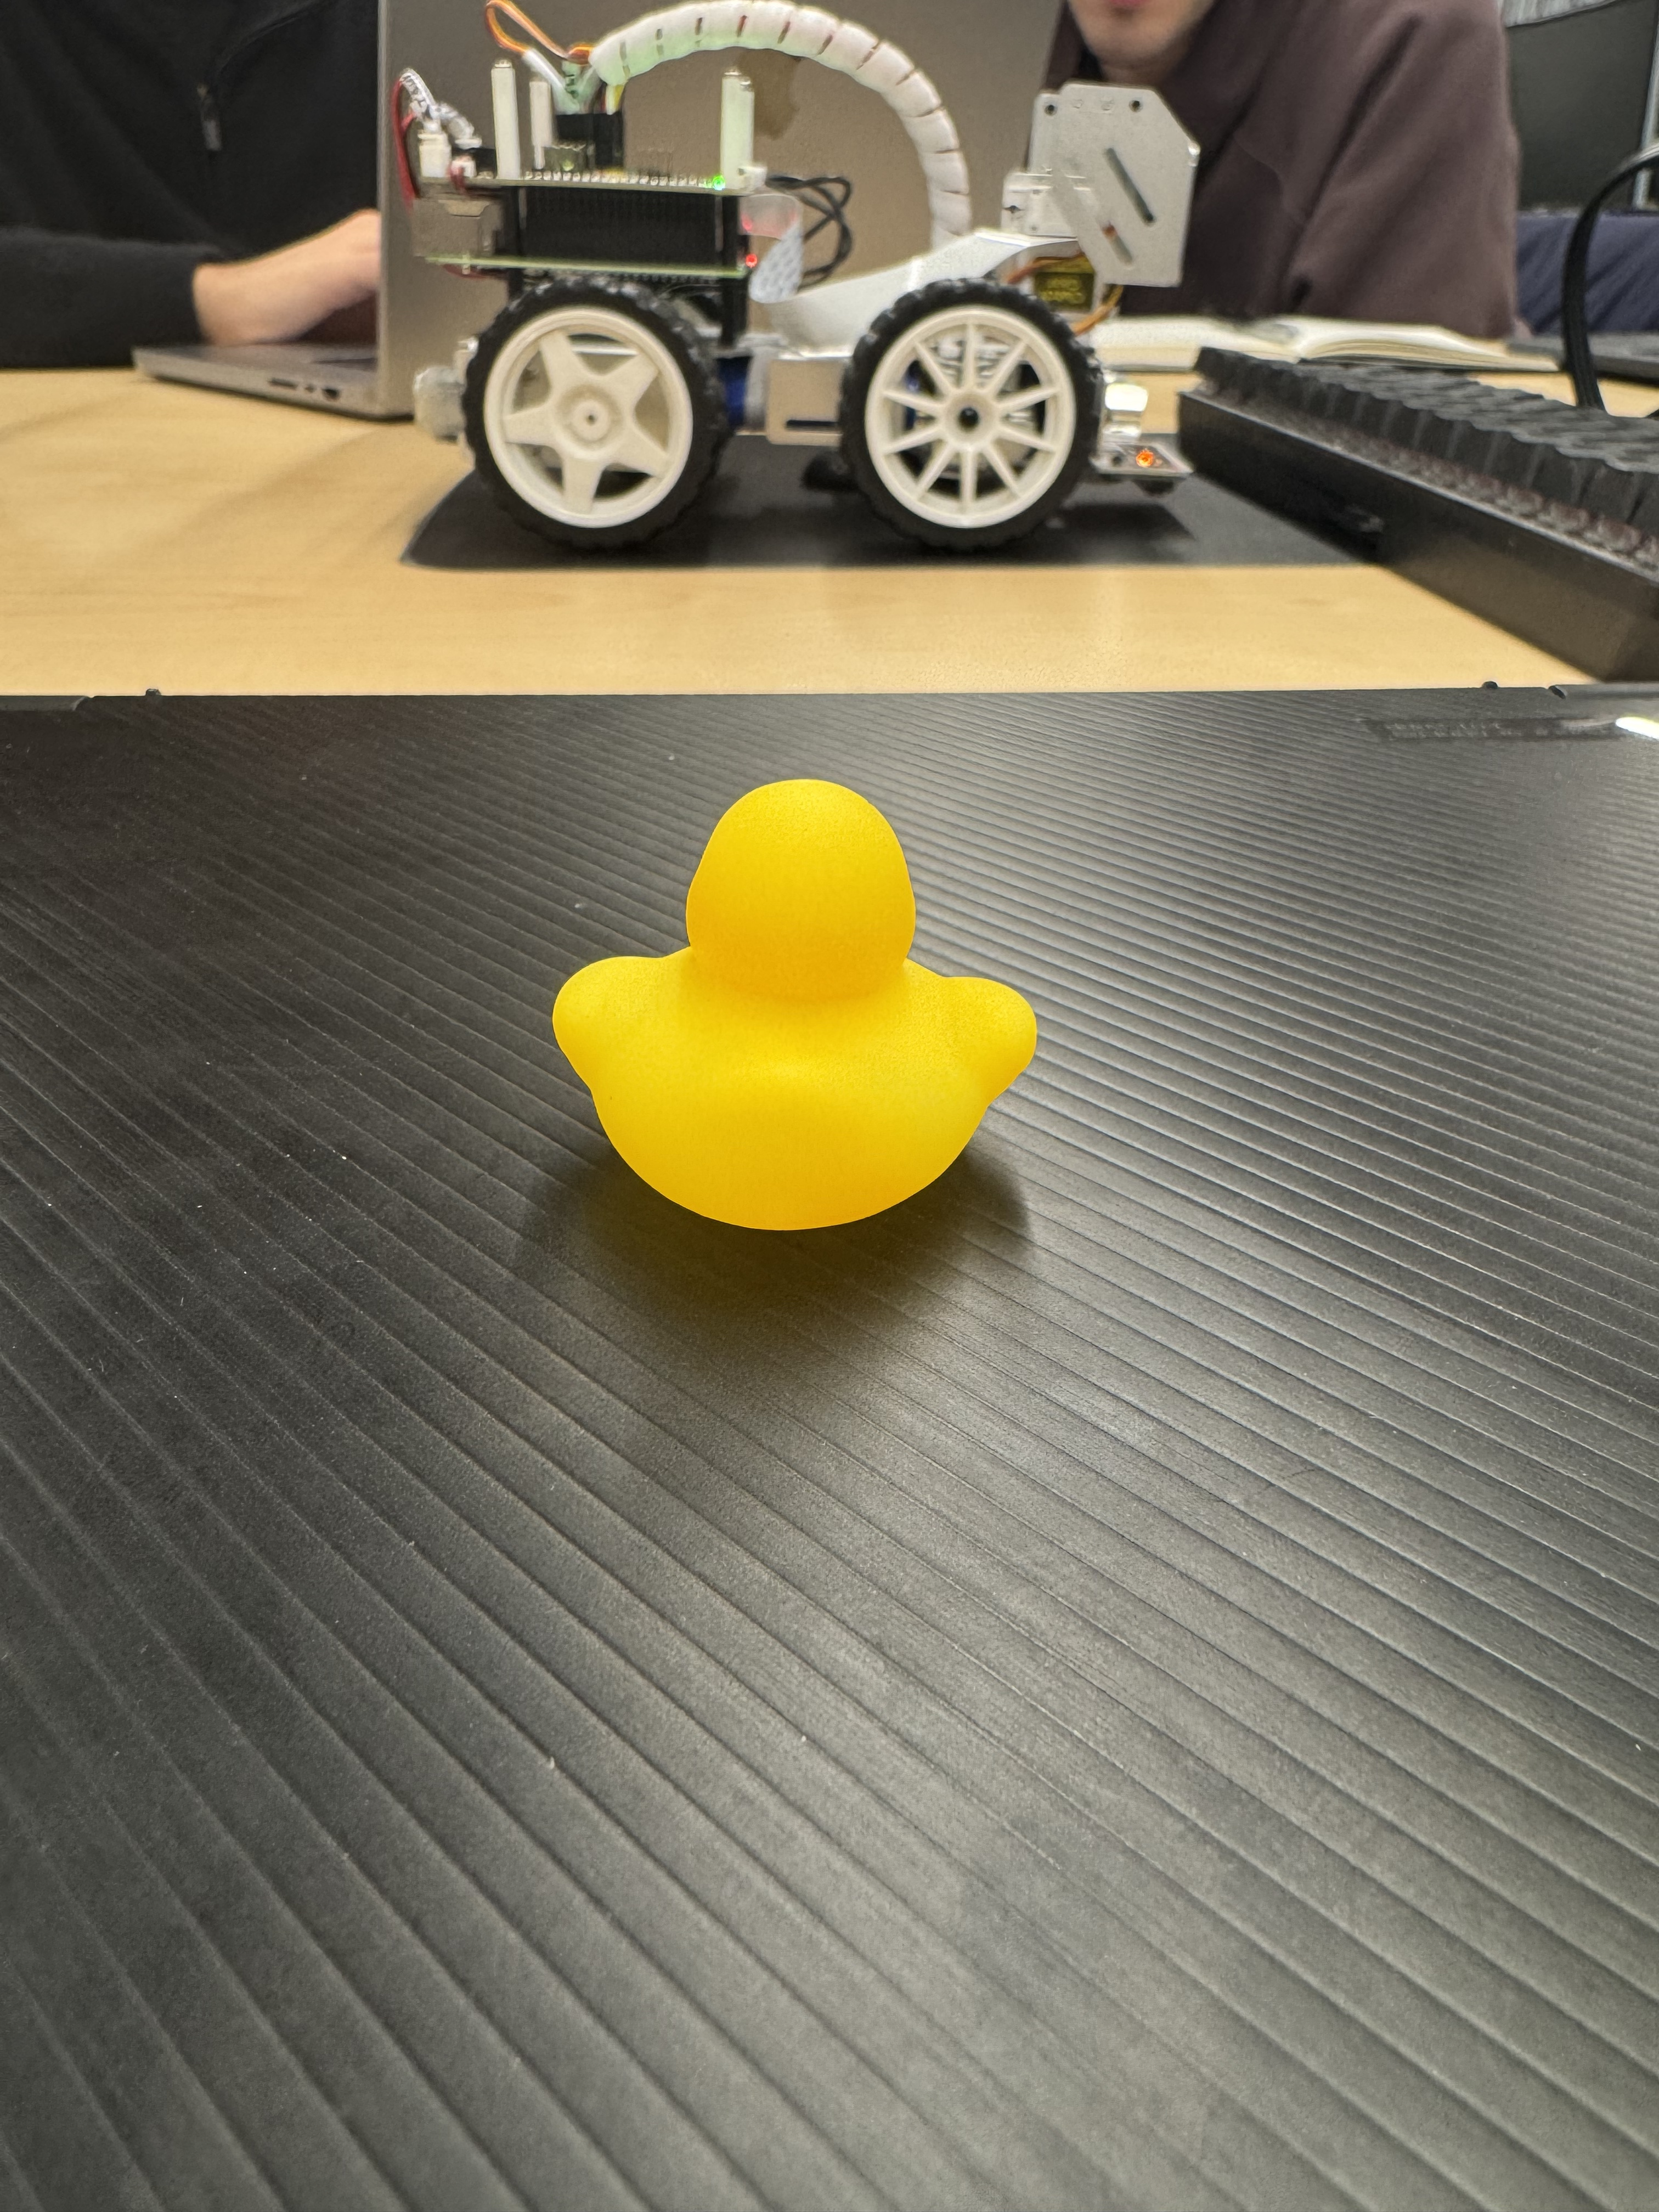duck_regular: (538, 772, 1060, 1247)
